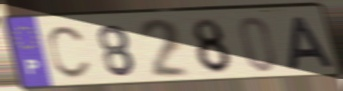0: (237, 15, 279, 74)
2: (138, 18, 195, 82)
8: (190, 16, 234, 77), (97, 23, 138, 79)
A: (285, 14, 338, 71)
C: (45, 24, 94, 82)
